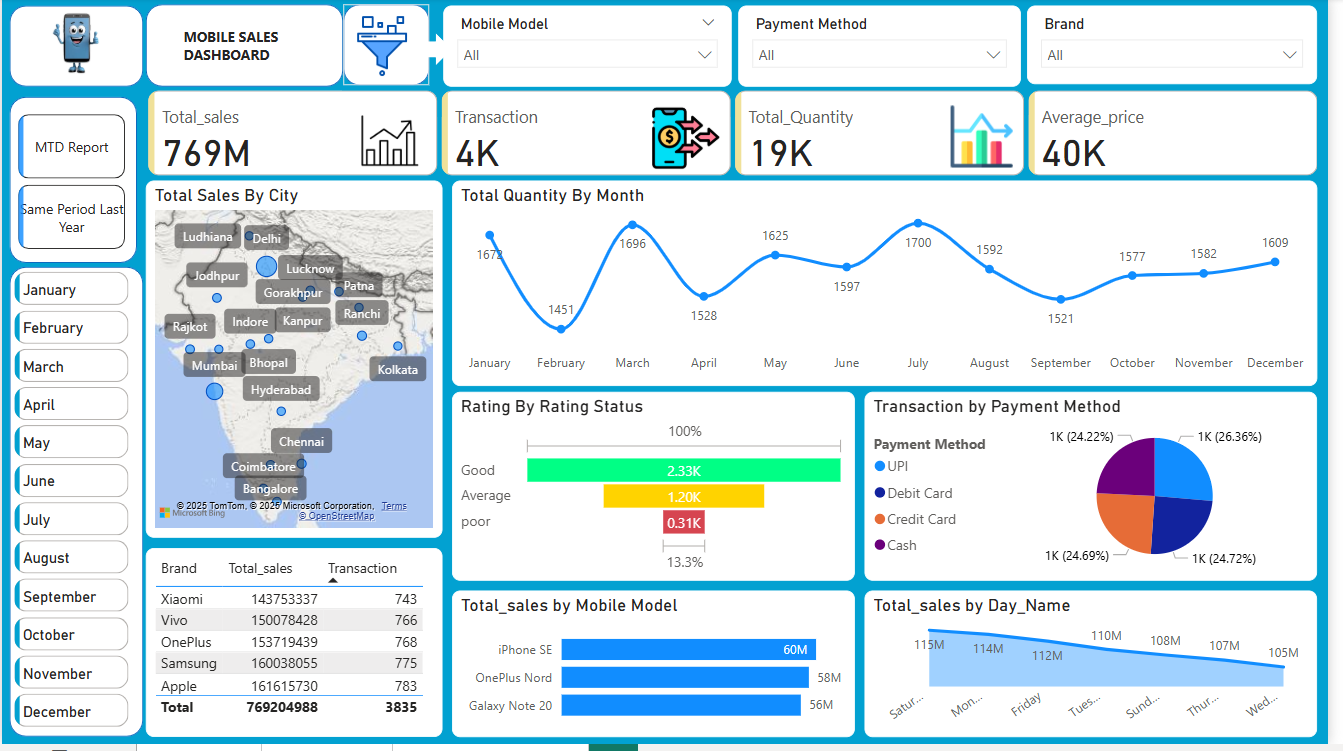

The page's visual inventory and layout, read from the dashboard file:
{"tool":"powerbi","page":{"name":"DashBoard","canvas":[1280,720],"ordinal":0},"visuals":[{"type":"shape","box":[7.2,7.2,129.1,78.4],"z":0},{"type":"shape","box":[7.2,95.3,131.5,160.5],"z":1000},{"type":"shape","box":[7.2,259.4,129.1,453.6],"z":2000},{"type":"image","box":[31.4,0,78.4,85.7],"z":3000},{"type":"advancedSlicerVisual","fields":{"Values":["Custom_Calender.Date.Variation.Date Hierarchy.Month"]},"box":[7.2,259.4,120.6,460.9],"z":4000},{"type":"cardVisual","fields":{"Data":["Measure.Total_sales","Measure.Transaction","Measure.Total_Quantity","Measure.Average_price"]},"box":[136.3,84.5,1141.3,92.9],"z":5000},{"type":"slicer","fields":{"Values":["Sales_data.Mobile Model"]},"box":[425.9,7.2,278.7,78.4],"z":6000},{"type":"slicer","fields":{"Values":["Sales_data.Payment Method"]},"box":[710.6,7.2,272.7,78.4],"z":7000},{"type":"slicer","fields":{"Values":["Sales_data.Brand"]},"box":[989.3,7.2,279.9,76],"z":8000},{"type":"shape","box":[329.4,6,83.2,78.4],"z":9000},{"type":"image","box":[329.4,12.1,74.8,68.8],"z":10000},{"type":"shape","box":[390.9,33.8,43.4,31.4],"z":11000},{"type":"shape","box":[138.7,6,190.6,79.6],"z":12000},{"type":"textbox","box":[170.1,22.9,129.1,53.1],"z":13000},{"type":"map","title":"Total Sales By City","fields":{"Category":["Sales_data.City"],"Size":["Measure.Total_sales"]},"box":[139.2,175.7,286.5,344.6],"z":14000},{"type":"lineChart","title":"Total Quantity By Month","fields":{"Y":["Measure.Total_Quantity"],"Category":["Custom_Calender.Date.Variation.Date Hierarchy.Month"]},"box":[433.8,175.7,835.1,198.6],"z":15000},{"type":"funnel","title":"Rating By Rating Status","fields":{"Y":["CountNonNull(Sales_data.Customer Ratings)"],"Category":["Sales_data.Rating_Status"]},"box":[433.8,379.7,389.2,182.4],"z":16000},{"type":"pieChart","fields":{"Y":["Measure.Transaction"],"Category":["Sales_data.Payment Method"]},"box":[832.4,379.7,436.5,182.4],"z":17000},{"type":"clusteredBarChart","fields":{"Y":["Measure.Total_sales"],"Category":["Sales_data.Mobile Model"]},"box":[433.8,571.6,389.2,141.9],"z":18000},{"type":"areaChart","fields":{"Category":["Custom_Calender.Day_Name"],"Y":["Measure.Total_sales"]},"box":[832.4,571.6,436.5,141.9],"z":19000},{"type":"tableEx","fields":{"Values":["Sales_data.Brand","Measure.Total_sales","Measure.Transaction"]},"box":[139.2,531.1,286.5,182.4],"z":20000},{"type":"pageNavigator","box":[15.7,112.2,114.6,130.3],"z":22501}]}

Visuals, with their boxes in screenshot pixels (x1, y1, x2, y2), scaled from the page's 1280x720 canvas onto the 1343x751 screenshot:
shape: {"left": 8, "top": 8, "right": 143, "bottom": 89}
shape: {"left": 8, "top": 99, "right": 146, "bottom": 267}
shape: {"left": 8, "top": 271, "right": 143, "bottom": 744}
image: {"left": 33, "top": 0, "right": 115, "bottom": 89}
advancedSlicerVisual - Custom_Calender.Date.Variation.Date Hierarchy.Month: {"left": 8, "top": 271, "right": 134, "bottom": 750}
cardVisual - Measure.Total_sales x Measure.Transaction: {"left": 143, "top": 88, "right": 1340, "bottom": 185}
slicer - Sales_data.Mobile Model: {"left": 447, "top": 8, "right": 739, "bottom": 89}
slicer - Sales_data.Payment Method: {"left": 746, "top": 8, "right": 1032, "bottom": 89}
slicer - Sales_data.Brand: {"left": 1038, "top": 8, "right": 1332, "bottom": 87}
shape: {"left": 346, "top": 6, "right": 433, "bottom": 88}
image: {"left": 346, "top": 13, "right": 424, "bottom": 84}
shape: {"left": 410, "top": 35, "right": 456, "bottom": 68}
shape: {"left": 146, "top": 6, "right": 346, "bottom": 89}
textbox: {"left": 178, "top": 24, "right": 314, "bottom": 79}
"Total Sales By City" map: {"left": 146, "top": 183, "right": 447, "bottom": 543}
"Total Quantity By Month" lineChart: {"left": 455, "top": 183, "right": 1331, "bottom": 390}
"Rating By Rating Status" funnel: {"left": 455, "top": 396, "right": 864, "bottom": 586}
pieChart - Measure.Transaction x Sales_data.Payment Method: {"left": 873, "top": 396, "right": 1331, "bottom": 586}
clusteredBarChart - Measure.Total_sales x Sales_data.Mobile Model: {"left": 455, "top": 596, "right": 864, "bottom": 744}
areaChart - Custom_Calender.Day_Name x Measure.Total_sales: {"left": 873, "top": 596, "right": 1331, "bottom": 744}
tableEx - Sales_data.Brand x Measure.Total_sales: {"left": 146, "top": 554, "right": 447, "bottom": 744}
pageNavigator: {"left": 16, "top": 117, "right": 137, "bottom": 253}
